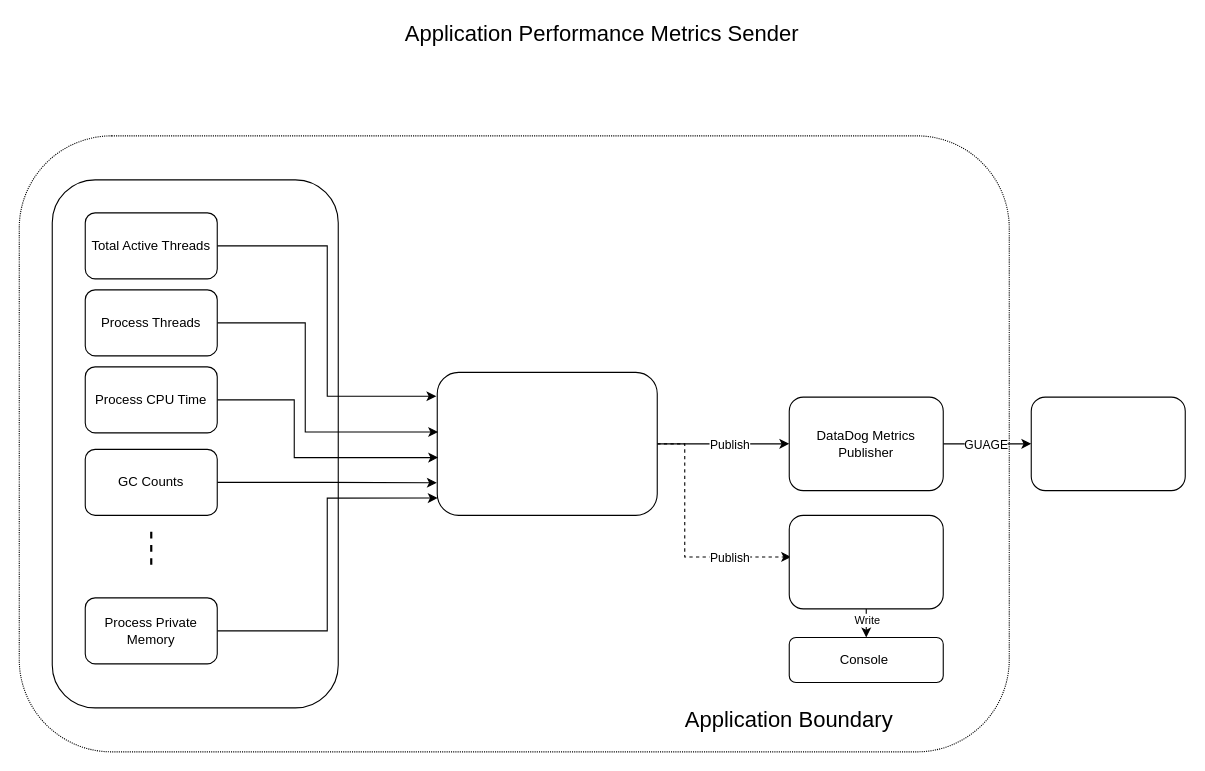
The diagram is 1205 pixels wide and 771 high, and some of its shapes have lost their labels. The centre of each missing label's shape, as x and y in pixels:
Console Metrics Publisher: (865,561)
DataDog: (1107,443)
Perf Metric Sender (BackgroundService) (10 second intervals by default): (546,443)
